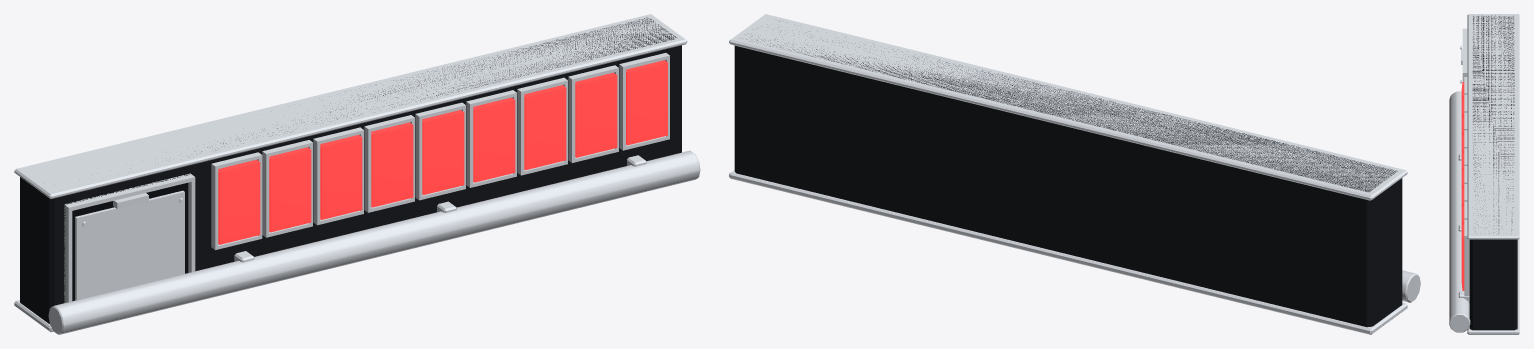
The model's file is rb_square_row.glb.
3 renders of one model, left to right at view 1: azimuth 30°, elevation 25°; view 2: azimuth 150°, elevation 25°; view 3: azimuth 270°, elevation 25°, orthographic. The views are drawn at different scales.
Visible parts, largest first — view 1: rb_square_row_chrome, rb_square_row_lamp_tail, rb_square_row_deco_body, rb_square_row_deco_plate, rb_square_row_deco_trim; view 2: rb_square_row_deco_body, rb_square_row_chrome; view 3: rb_square_row_chrome, rb_square_row_deco_body, rb_square_row_lamp_tail.
Boxes of the visible parts, <box> form: rb_square_row_chrome: <box>14,14,700,334</box>; rb_square_row_lamp_tail: <box>218,60,667,244</box>; rb_square_row_deco_body: <box>20,17,681,323</box>; rb_square_row_deco_plate: <box>75,190,184,300</box>; rb_square_row_deco_trim: <box>64,174,189,302</box>; rb_square_row_deco_body: <box>734,37,1402,327</box>; rb_square_row_chrome: <box>729,14,1420,334</box>; rb_square_row_chrome: <box>1449,14,1519,334</box>; rb_square_row_deco_body: <box>1469,15,1517,330</box>; rb_square_row_lamp_tail: <box>1461,82,1464,290</box>.
Size of the model in its own units: 2.42 by 0.5 by 0.3238.
